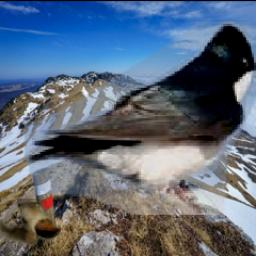Swallow: (26, 22, 256, 215), (0, 200, 62, 246)
